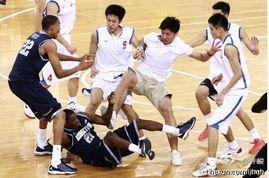Fall-Detected: (47, 100, 198, 167)
